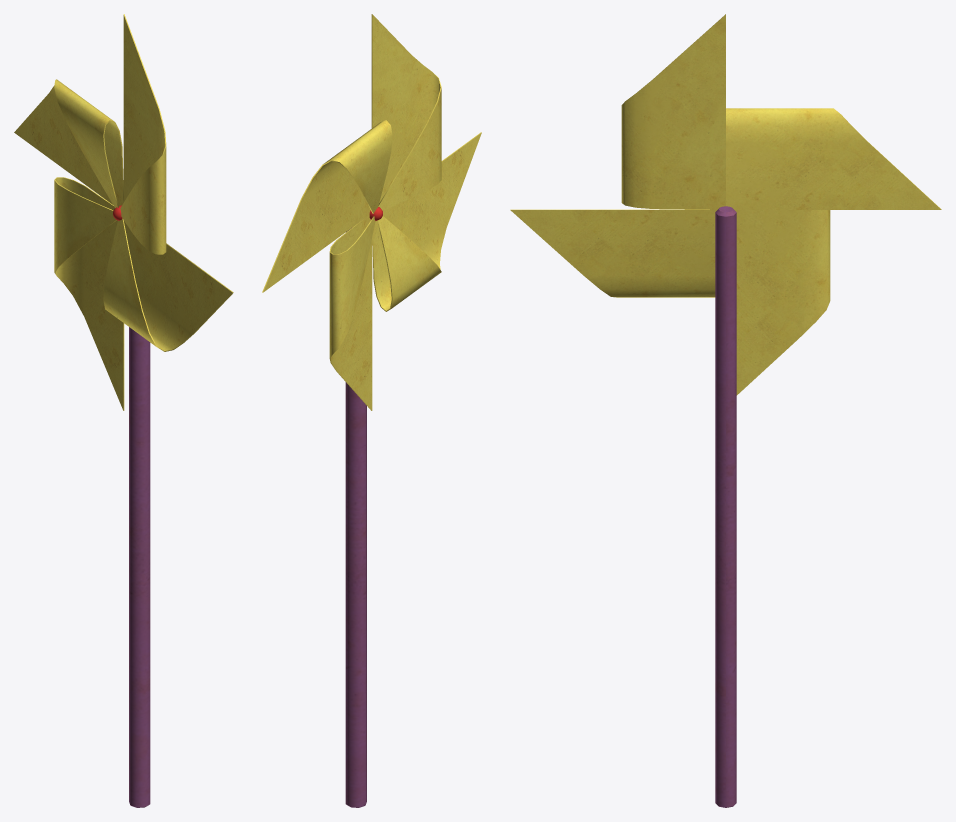
The model's file is Pinwheel_01.fbx.
The picture shows the model from 3 angles, left to right: view 1: azimuth 30°, elevation 25°; view 2: azimuth 150°, elevation 25°; view 3: azimuth 270°, elevation 25°; orthographic projection.
Visible parts, largest first — view 1: Pinwheel_Blades.001, Pinwheel_Handle; view 2: Pinwheel_Blades.001, Pinwheel_Handle; view 3: Pinwheel_Blades.001, Pinwheel_Handle.
Boxes of the visible parts, x1=… form: Pinwheel_Blades.001: x1=14, y1=14, x2=233, y2=410; Pinwheel_Handle: x1=129, y1=327, x2=150, y2=807; Pinwheel_Blades.001: x1=262, y1=14, x2=481, y2=410; Pinwheel_Handle: x1=345, y1=228, x2=366, y2=807; Pinwheel_Blades.001: x1=510, y1=14, x2=941, y2=395; Pinwheel_Handle: x1=715, y1=206, x2=736, y2=807.
Bounding box in the file's own units: 0.242 × 2 × 4.
